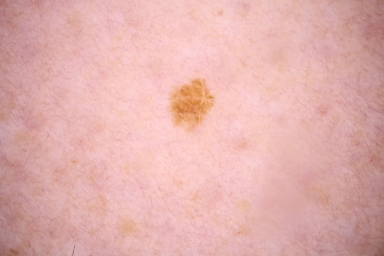melanoma: (169, 78, 214, 127)
